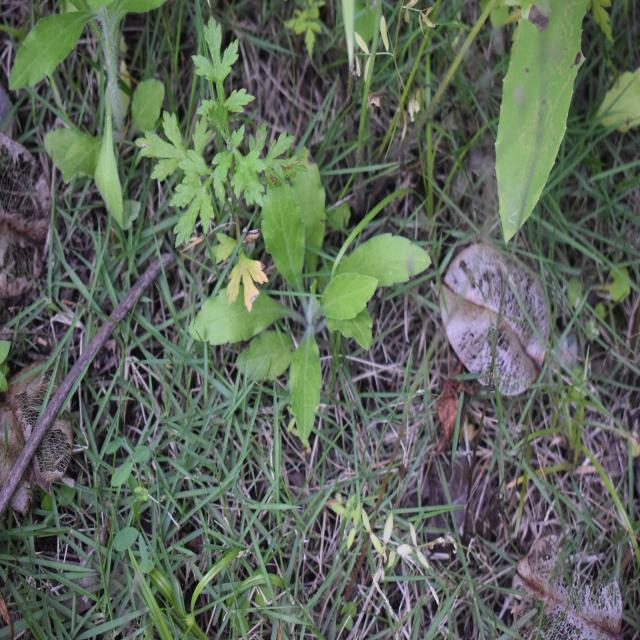horseweed: (212, 204, 377, 416)
